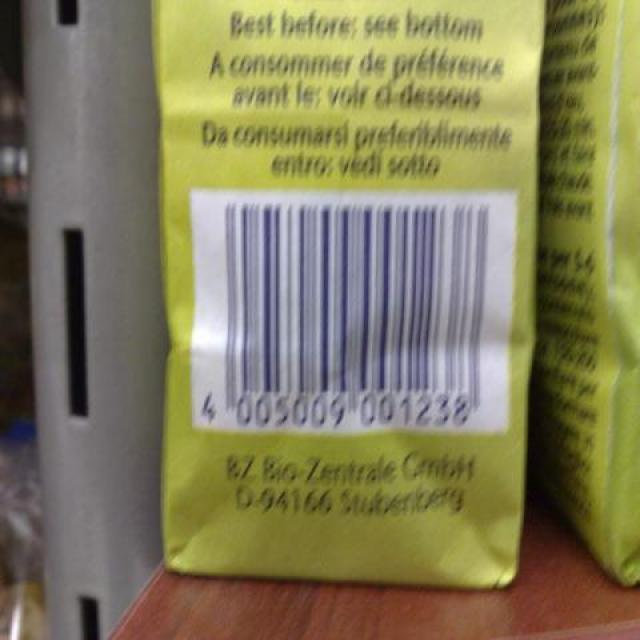Barcode: (189, 189, 511, 435)
